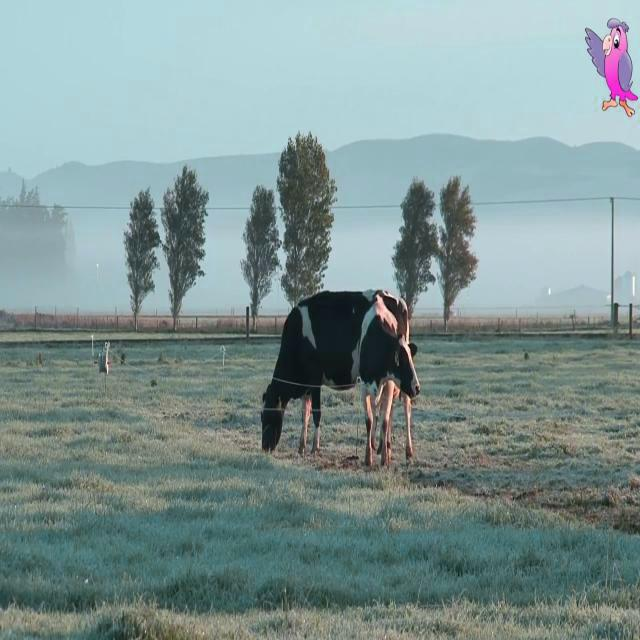cow: (262, 290, 409, 453), (352, 292, 420, 467)
